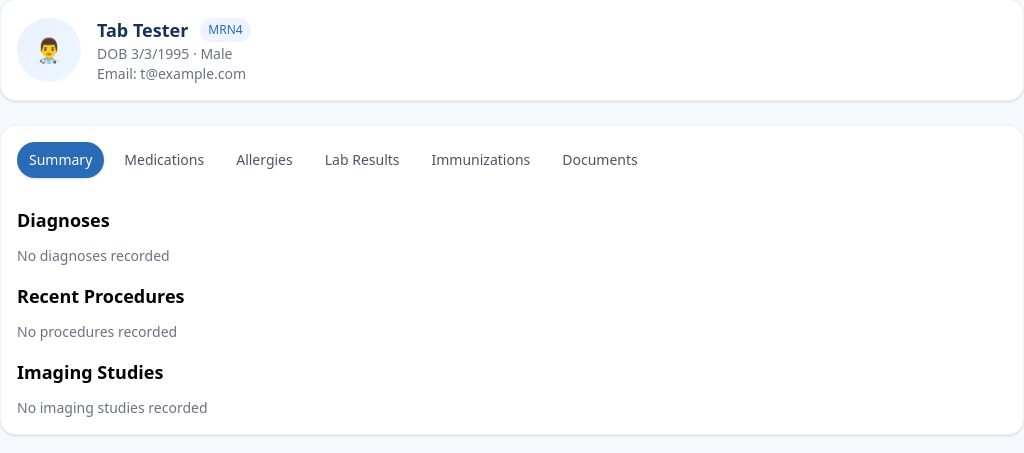
it: MedicalRecords › switches tabs and displays medications and documents correctly
Check: the heading "Tab Tester" is shown, box left=97, top=16, right=188, bottom=44
Click the button "Medications" at (164, 160), box left=112, top=142, right=216, bottom=178
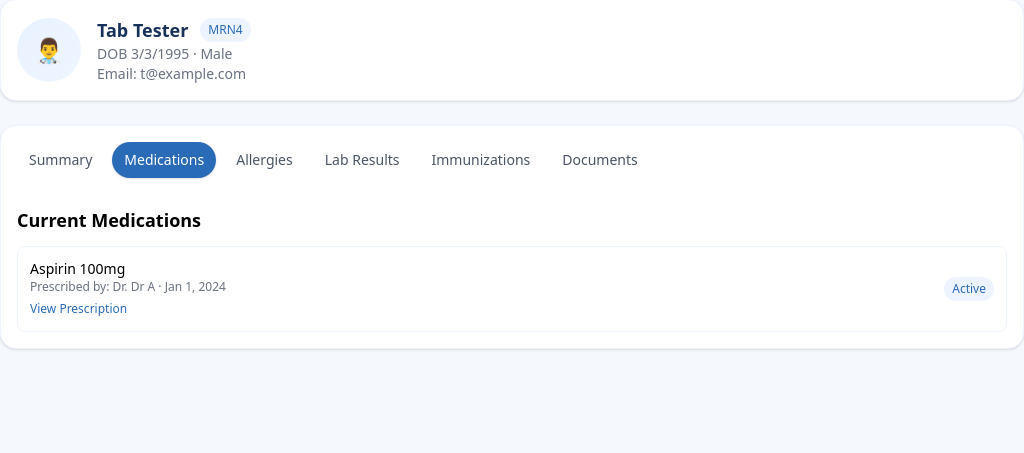
Check: the text "Aspirin 100mg" is shown, box left=30, top=259, right=125, bottom=278
# Click Documents tab and check document appears
Click the button "Documents" at (600, 160), box left=550, top=142, right=650, bottom=178
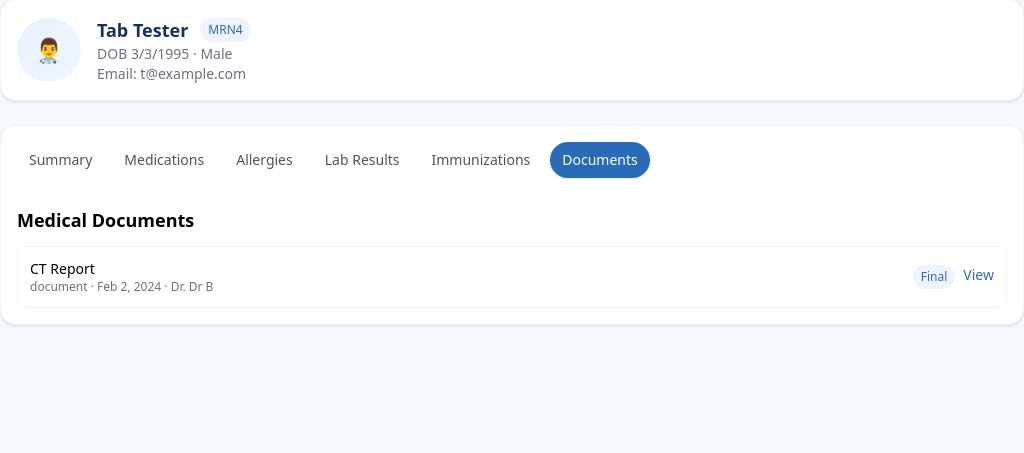
Check: the text "CT Report" is shown, box left=30, top=259, right=95, bottom=278
